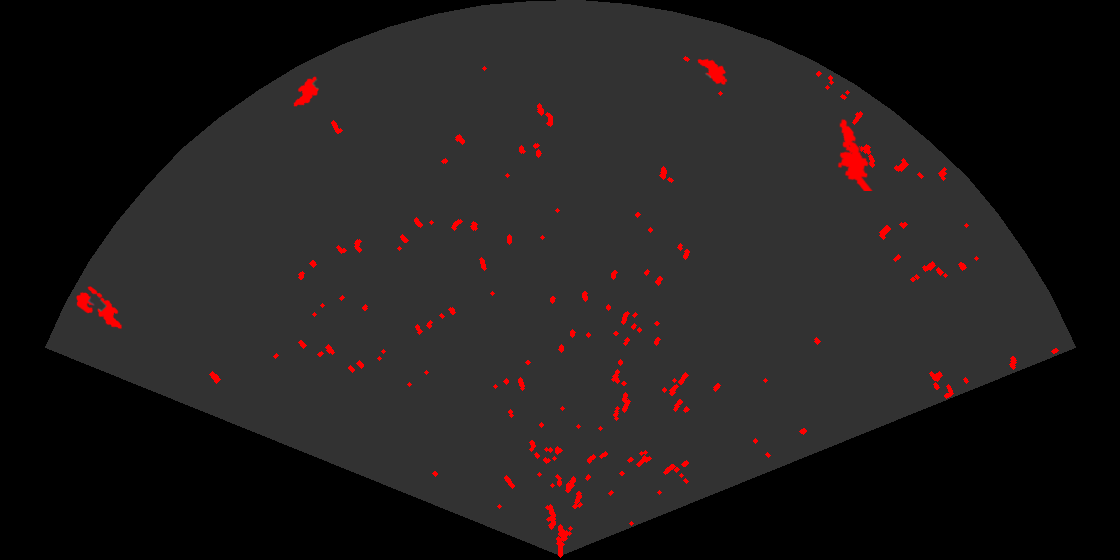AUV: (696, 57, 729, 87), (96, 296, 124, 331), (292, 75, 321, 108)
ball: (74, 285, 104, 315)
frogman: (836, 117, 875, 191)
